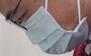with_mask: (1, 1, 91, 56)
